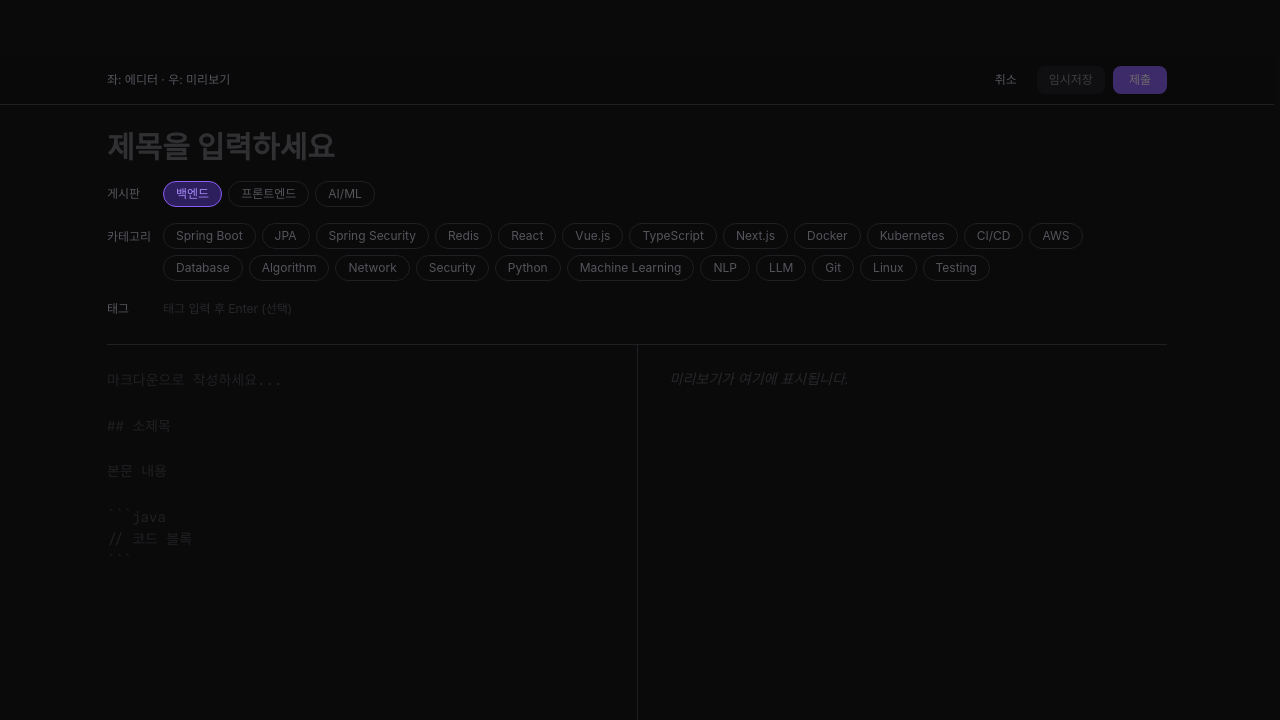
Scenario: ArticleWritePage › 새 글 작성 모드 (비 PUBLISHED) › 제목/내용/카테고리 모두 입력시 버튼이 활성화된다
In the field with placeholder "제목을 입력하세요": [637, 147] box 107,129 -> 1167,165, type "테스트 제목"
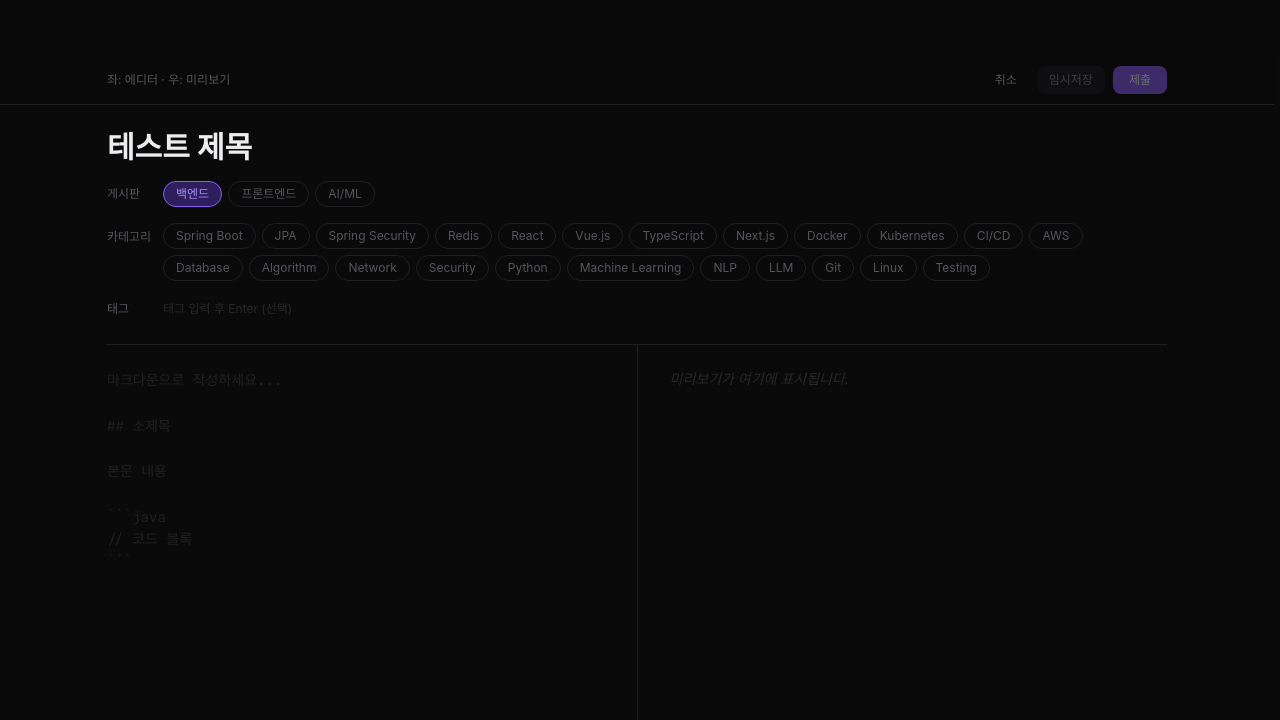
Click the button "Spring Boot": [209, 236] box 163,223 -> 256,249
(page scrolled)
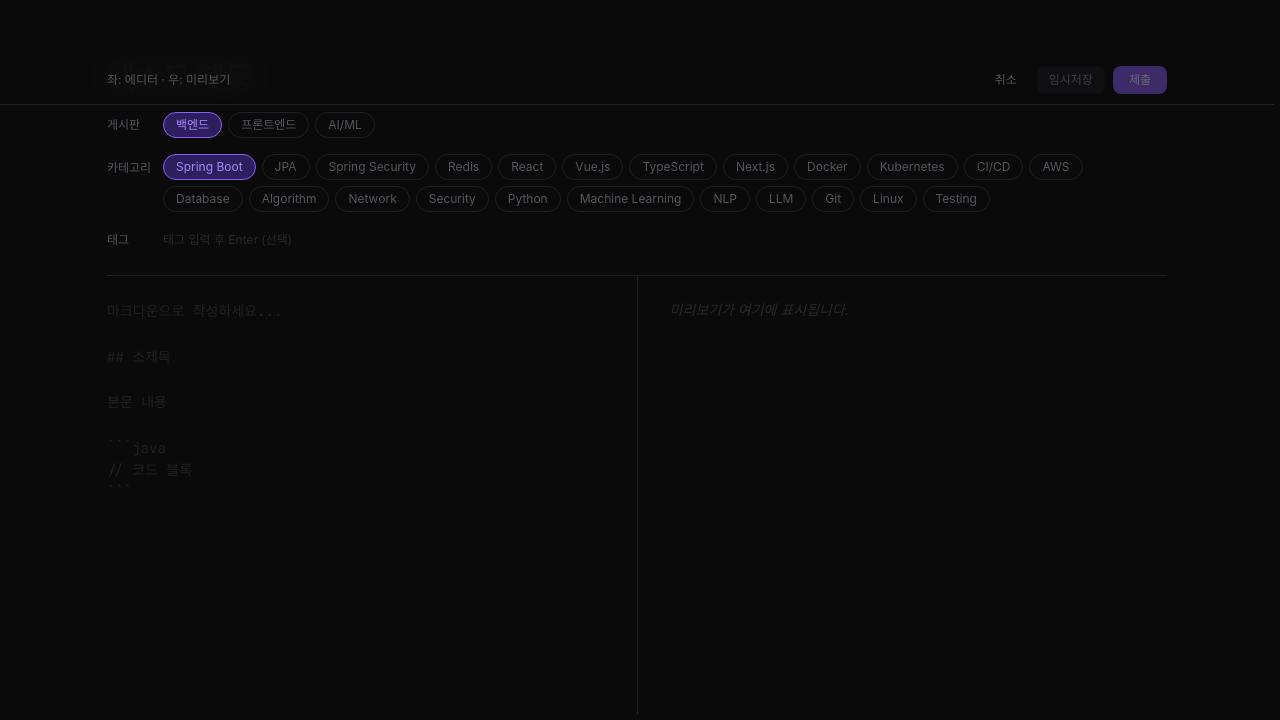
In the text box with placeholder "마크다운으로 작성하세요... ## 소제목 본문 내용 ```java // 코드 블록 ```": [372, 495] box 107,276 -> 636,714, type "테스트 내용"
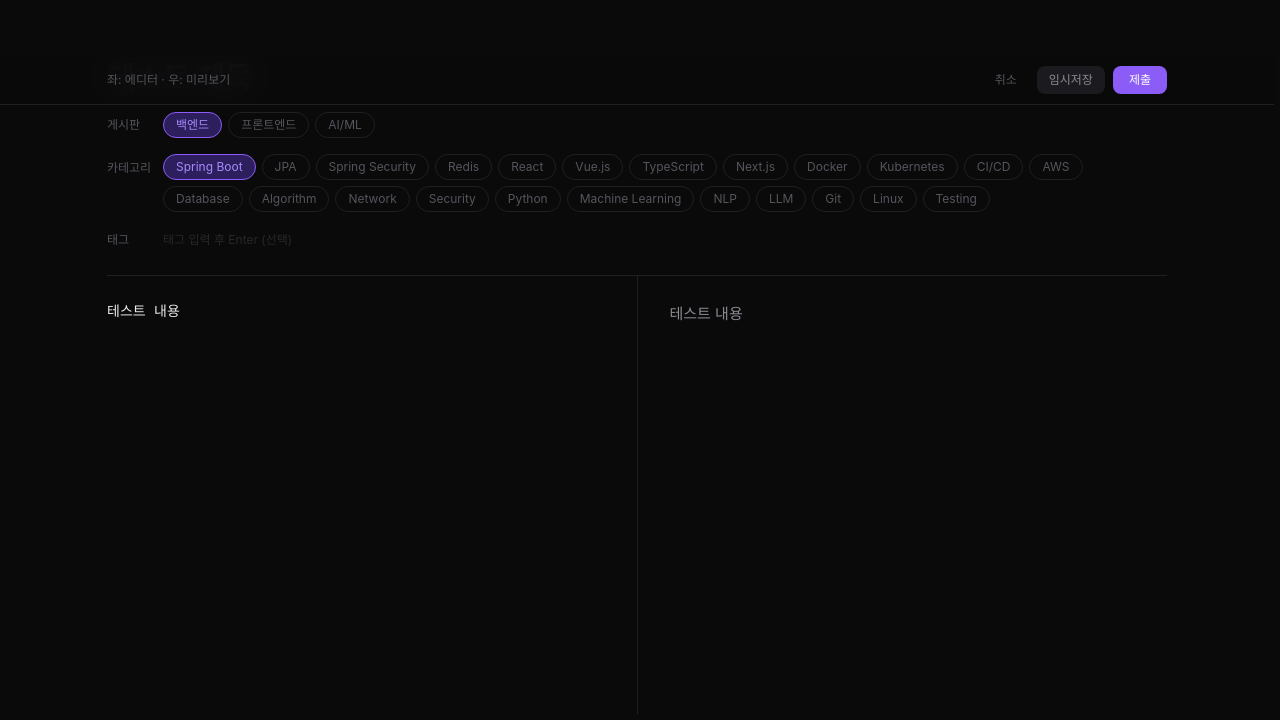
Check: the button "제출" is enabled, box 1113,66 -> 1167,94
Check: the button "임시저장" is enabled, box 1037,66 -> 1105,94
